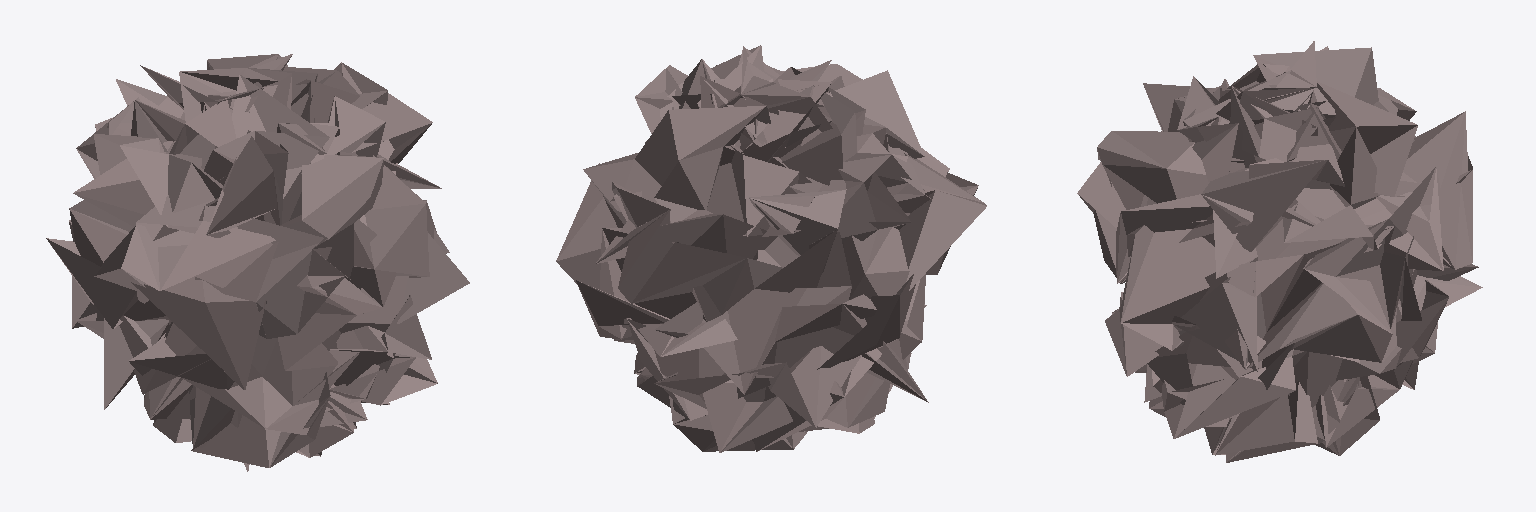
File: crushed-paper.obj
3 views of the same model, side by side, from view 1: azimuth 30°, elevation 25°; view 2: azimuth 150°, elevation 25°; view 3: azimuth 270°, elevation 25° (orthographic).
Parts seen in each view (by area): view 1: Sphere; view 2: Sphere; view 3: Sphere.
Boxes of the visible parts, x1=… form: Sphere: x1=46, y1=54, x2=469, y2=471; Sphere: x1=556, y1=45, x2=986, y2=452; Sphere: x1=1077, y1=41, x2=1482, y2=462.
Bounding box in the file's own units: 1.85 × 1.86 × 1.83.